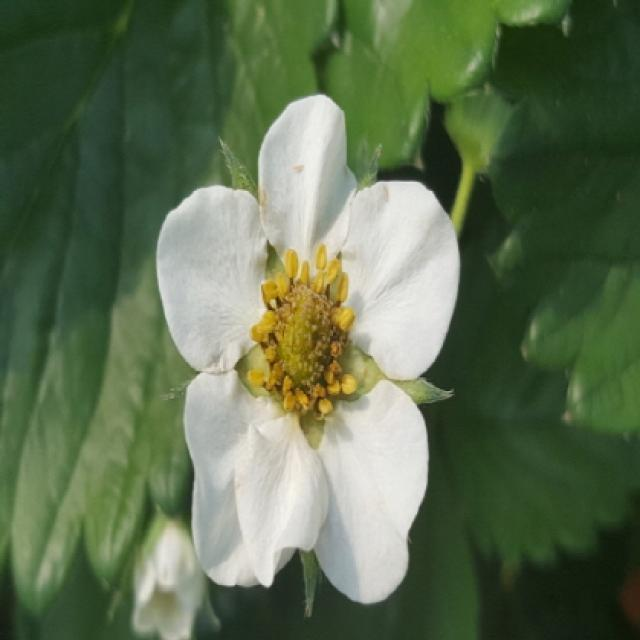Blossom Blight: (246, 242, 363, 424)
